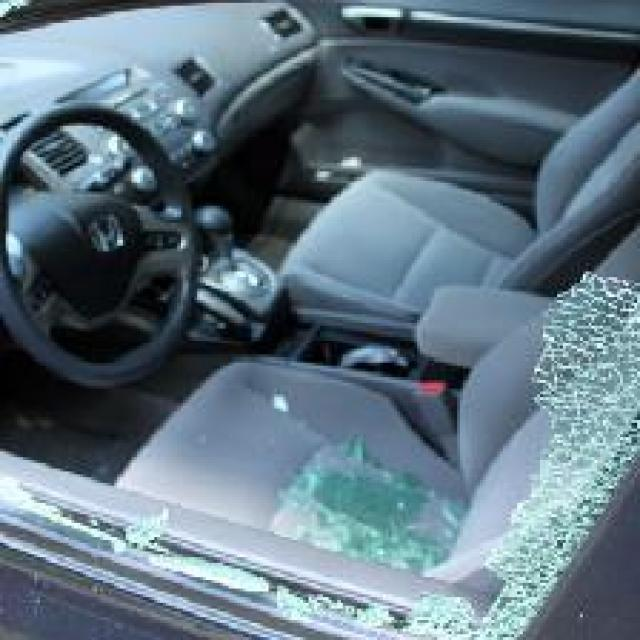damaged: (2, 272, 638, 637)
